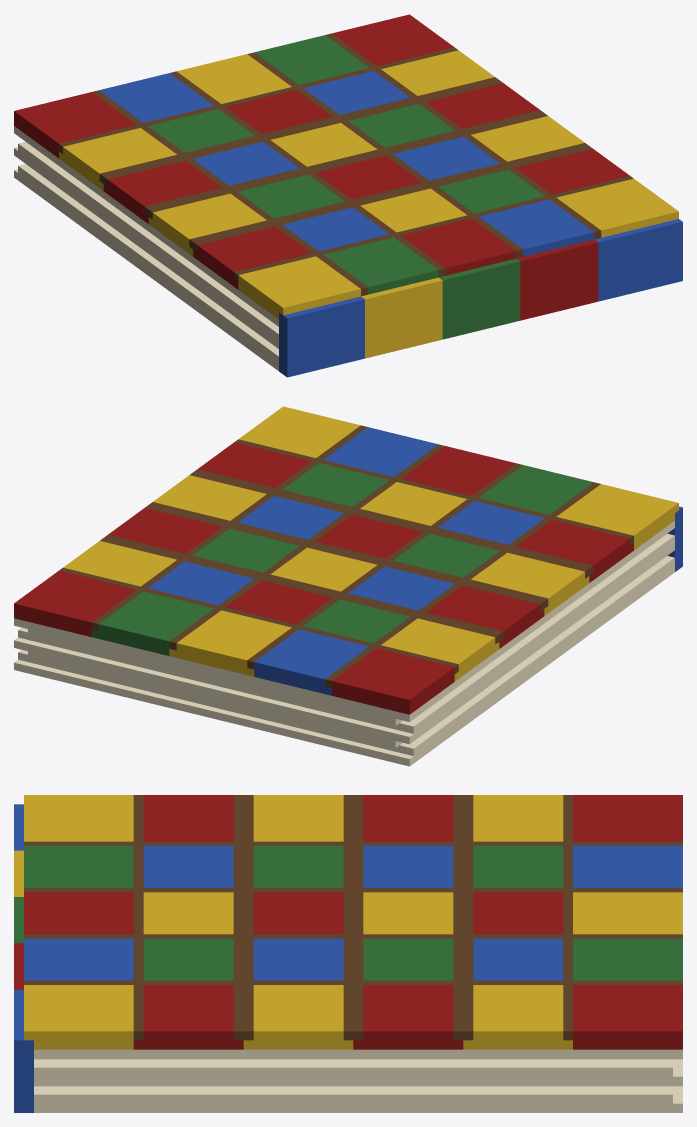
The model's file is long_patchwork_scarf.glb.
3 views of the same model, one above another, from view 1: azimuth 30°, elevation 25°; view 2: azimuth 150°, elevation 25°; view 3: azimuth 270°, elevation 25° (orthographic). The views are drawn at different scales.
Visible parts, largest first — view 1: long_patchwork_scarf:compound; view 2: long_patchwork_scarf:compound; view 3: long_patchwork_scarf:compound.
Boxes of the visible parts, box(x1,y1,x2,y2) form: long_patchwork_scarf:compound: box(14, 14, 682, 377); long_patchwork_scarf:compound: box(14, 406, 682, 766); long_patchwork_scarf:compound: box(14, 795, 682, 1112).
Size of the model in its own units: 0.224 by 0.036 by 0.268.
